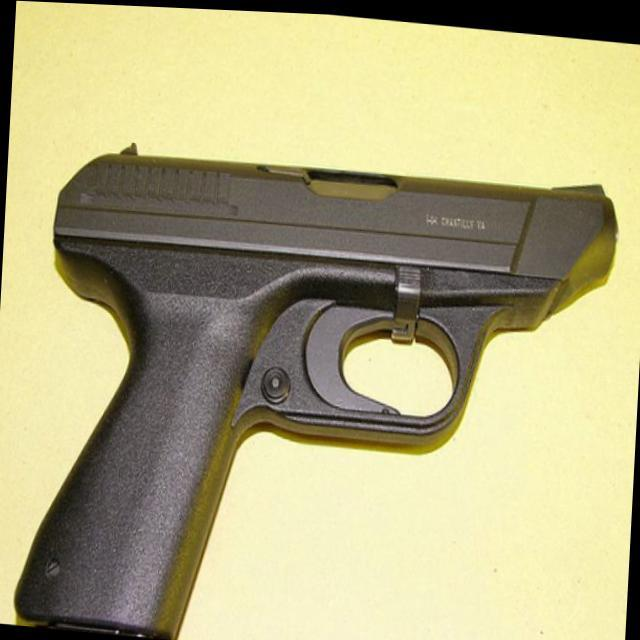weapon: (11, 124, 620, 640)
